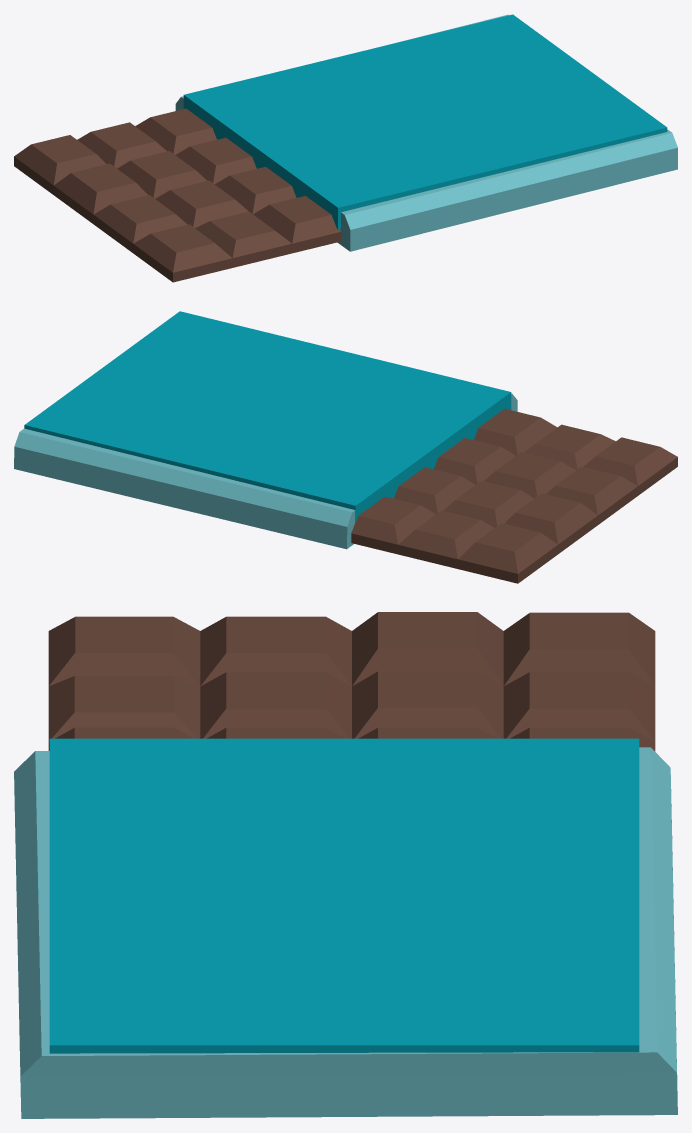
3 views of the same model, one above another, from view 1: azimuth 30°, elevation 25°; view 2: azimuth 150°, elevation 25°; view 3: azimuth 270°, elevation 25° (orthographic). The views are drawn at different scales.
Visible parts, largest first — view 1: node_MeshObject-1928449024-PolyPaper21; view 2: node_MeshObject-1928449024-PolyPaper21; view 3: node_MeshObject-1928449024-PolyPaper21.
Boxes of the visible parts, <box> form: node_MeshObject-1928449024-PolyPaper21: <box>14,14,677,282</box>; node_MeshObject-1928449024-PolyPaper21: <box>14,311,677,583</box>; node_MeshObject-1928449024-PolyPaper21: <box>14,612,677,1118</box>.
Bounding box in the file's own units: 0.4836 × 0.0353 × 0.2929.
